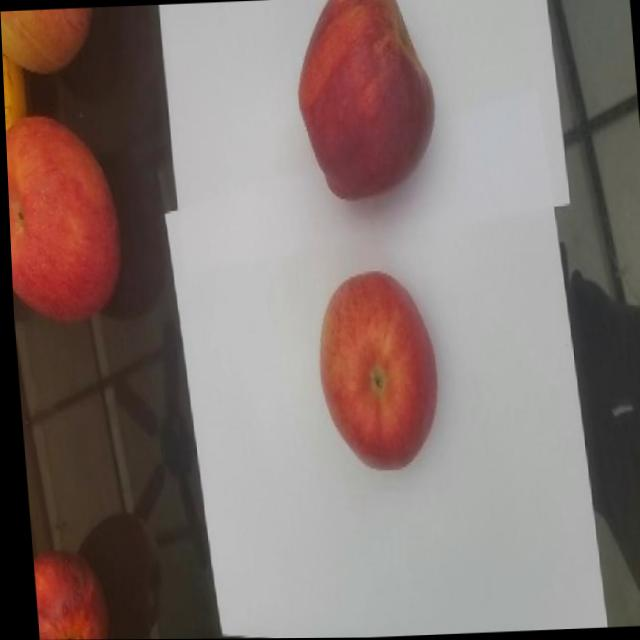Apple: (289, 0, 440, 202), (308, 268, 440, 473), (4, 110, 123, 324), (27, 547, 103, 640), (0, 6, 97, 76), (1, 39, 28, 137)
